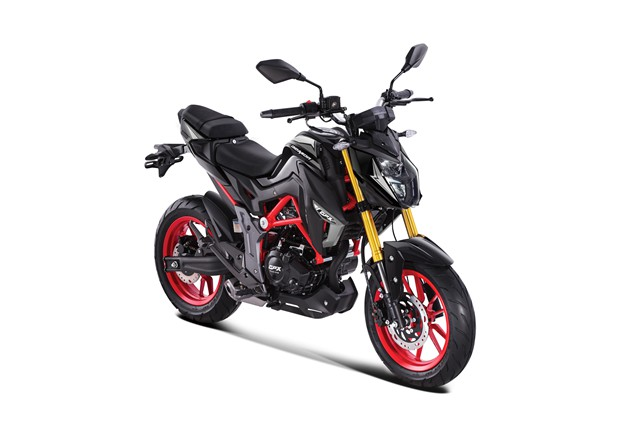motorcycle: (146, 80, 471, 389)
